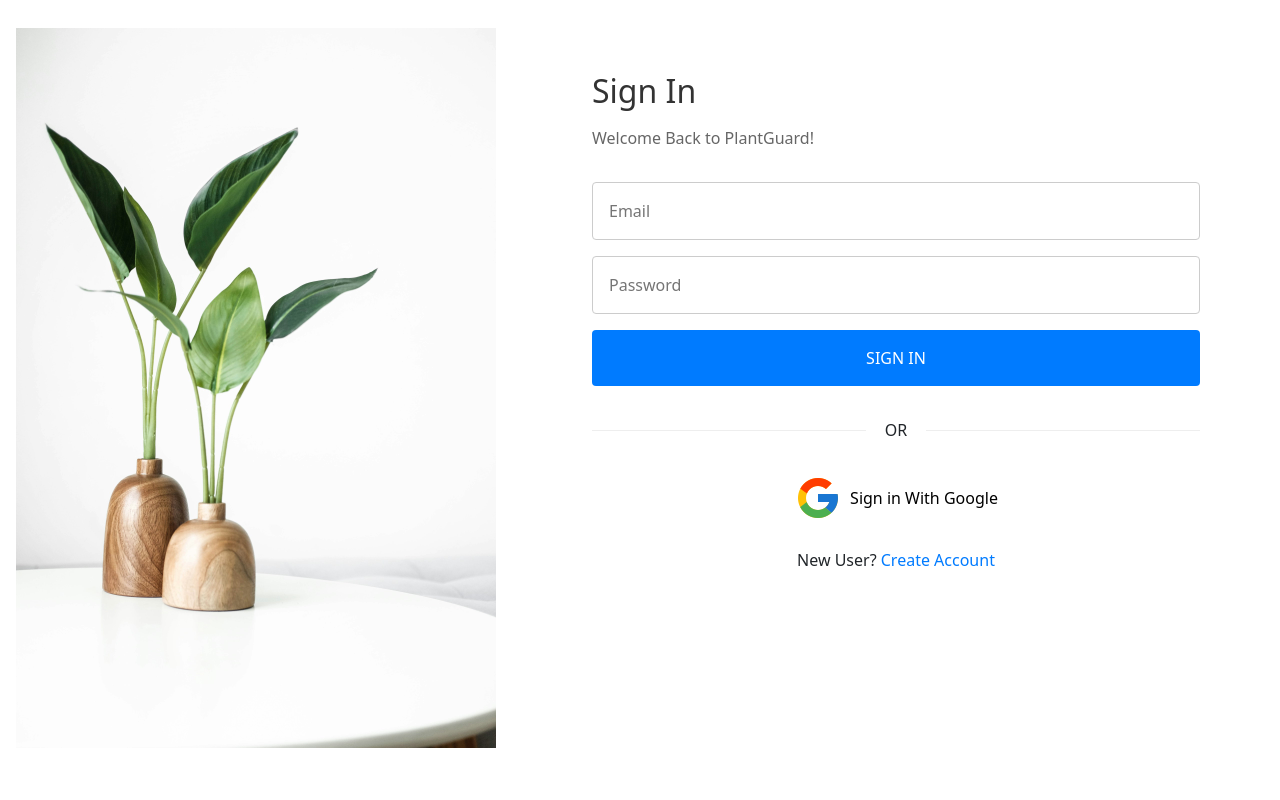
it: LoginPage › displays error when login fails
Type "wrong@example.com" into the field with placeholder "Email". click: (896,211)
box: [592,182,1200,240]
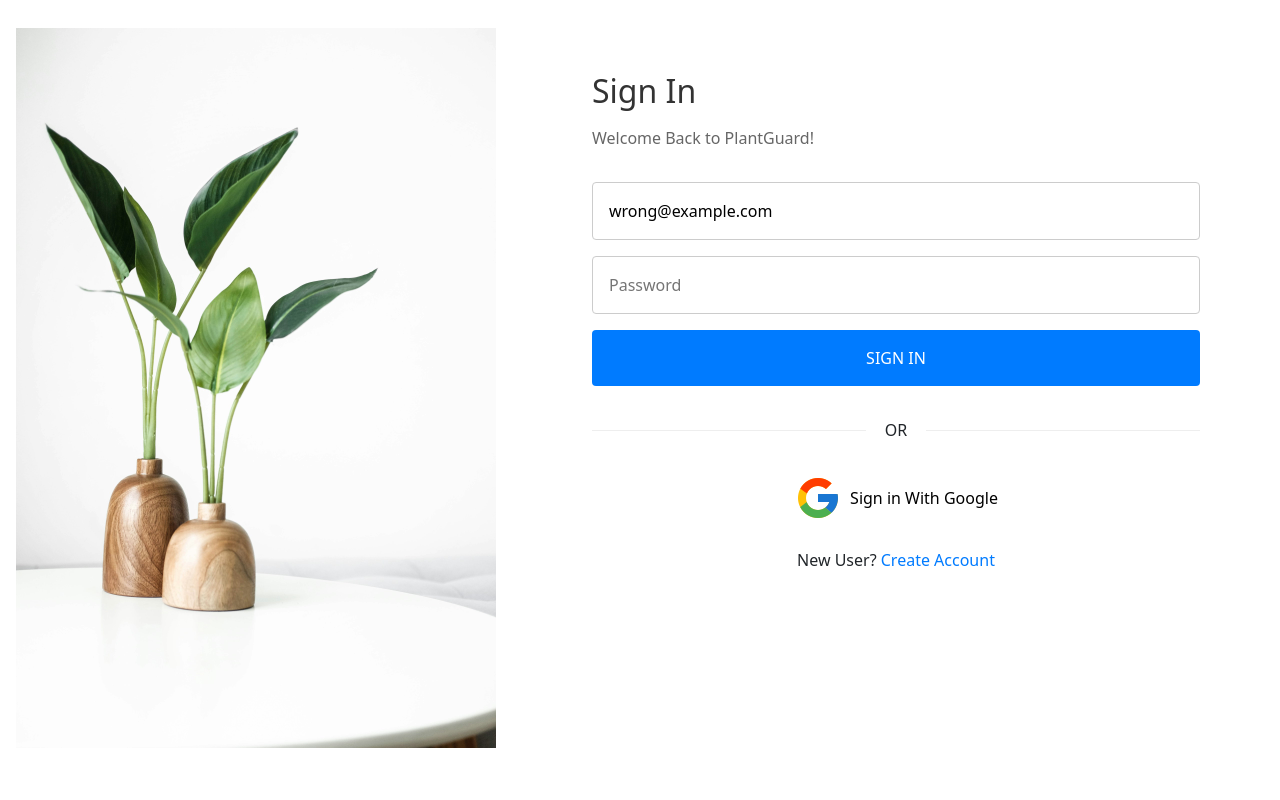
Type "wrongpassword" into the password field with placeholder "Password". click: (896,285)
box: [592,256,1200,314]
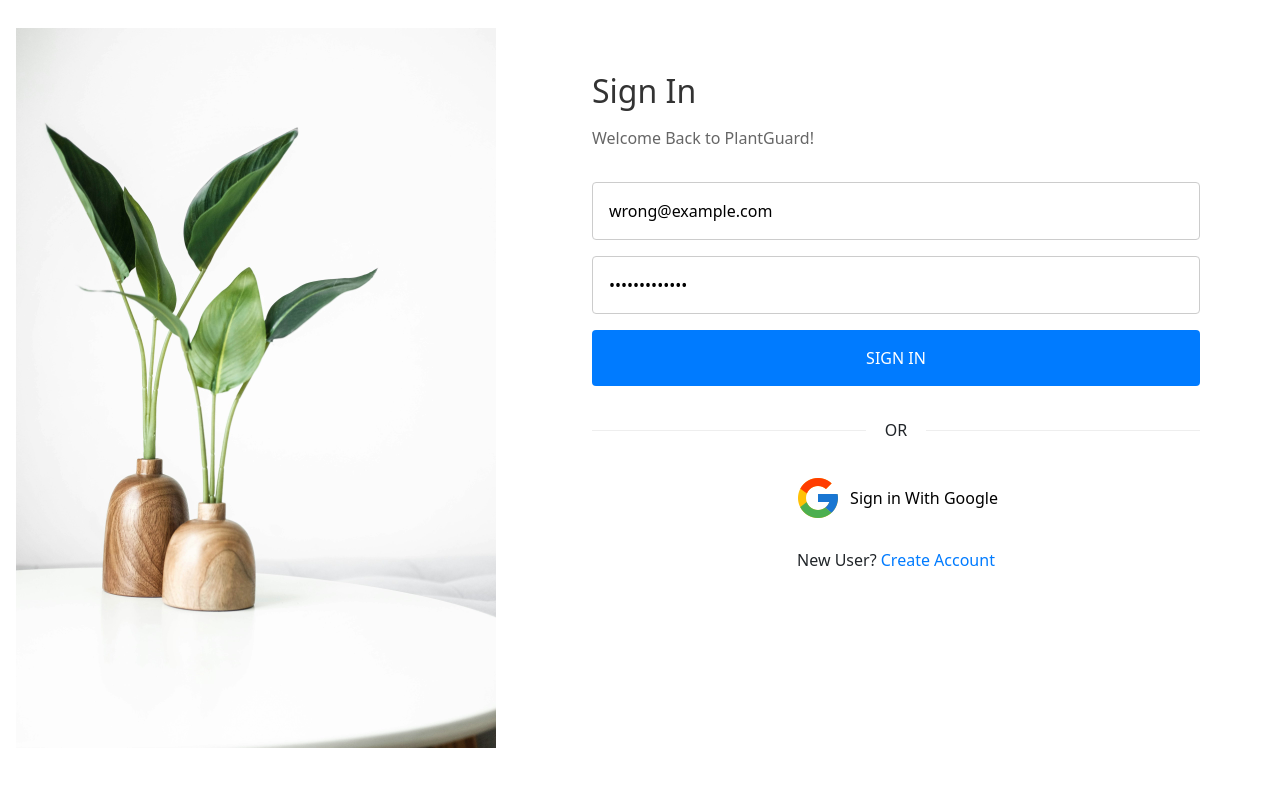
Click the button "SIGN IN". click: (896,358)
box: [592,330,1200,386]
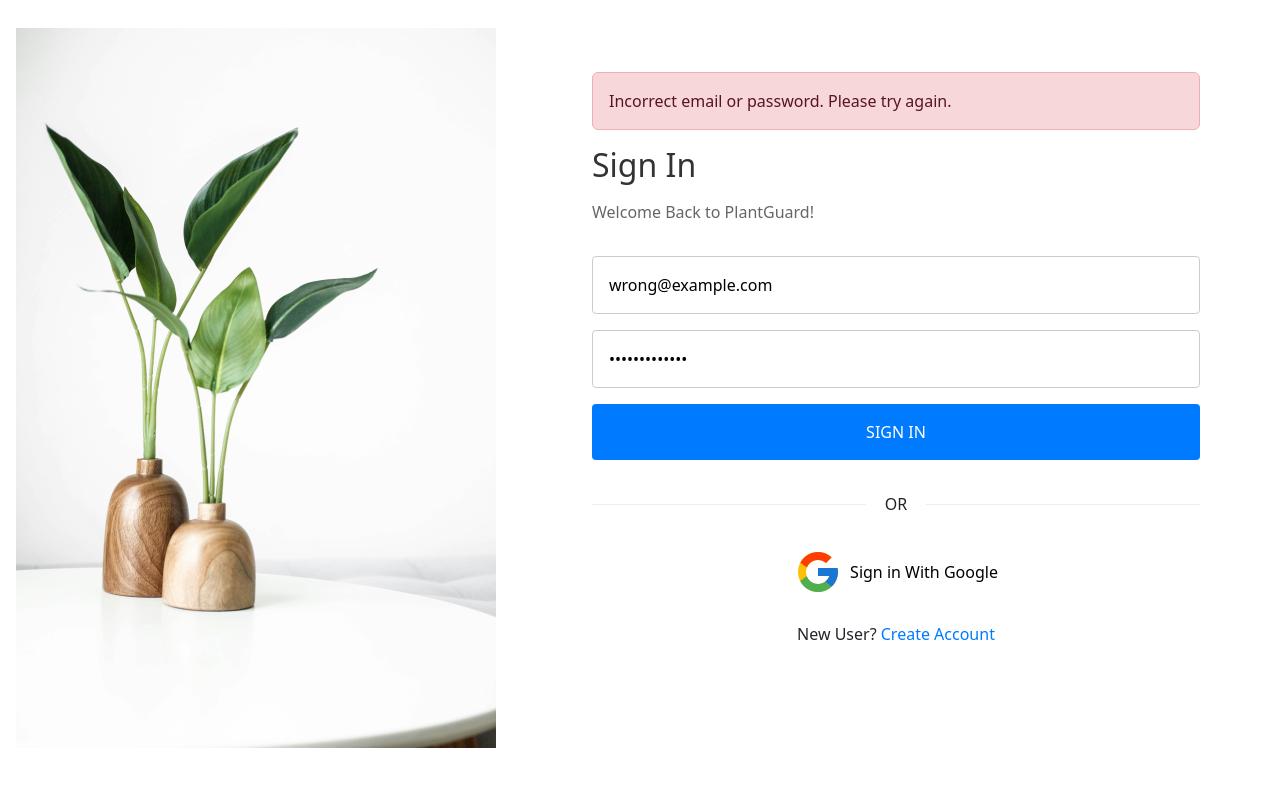
expect the text "Incorrect email or password. Please try again." is shown: met, box [592,72,1200,130]
